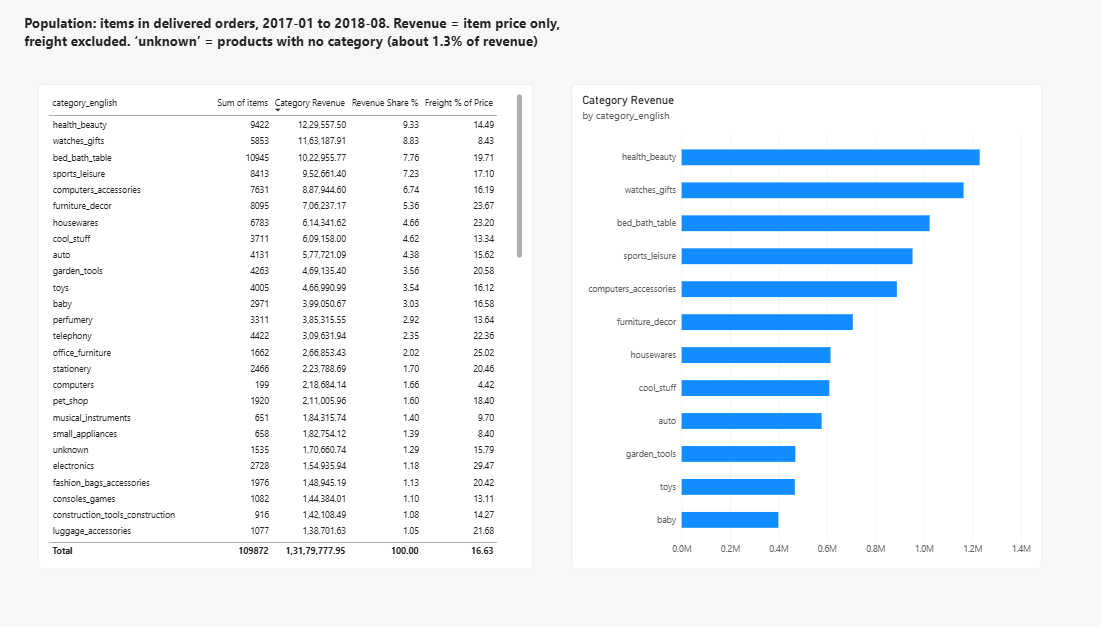

What the dashboard file says about the page in this screenshot:
{"tool":"powerbi","page":{"name":"categories","canvas":[1920,1080],"ordinal":4},"visuals":[{"type":"tableEx","fields":{"Values":["category_summary.category_english","Sum(category_summary.items)","category_summary.Category Revenue","category_summary.Revenue Share %","category_summary.Freight % of Price"]},"box":[80,154,792,776],"z":0},{"type":"clusteredBarChart","fields":{"Category":["category_summary.category_english"],"Y":["category_summary.Category Revenue"]},"box":[934,154,752,776],"z":1},{"type":"textbox","box":[58,40,876,68],"z":2}]}

Visuals, with their boxes in screenshot pixels (x1, y1, x2, y2), scaled from the page's 1920x1080 canvas onto the 1101x627 screenshot:
tableEx - category_summary.category_english x Sum(category_summary.items): 46 89 500 540
clusteredBarChart - category_summary.category_english x category_summary.Category Revenue: 536 89 967 540
textbox: 33 23 536 63
